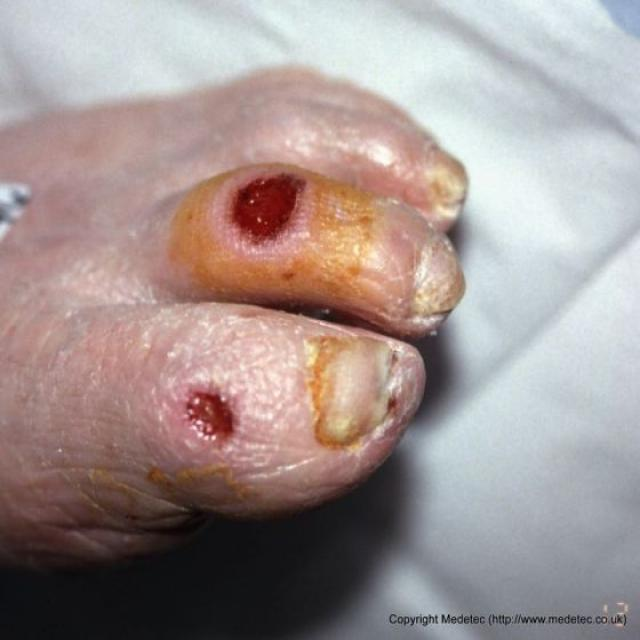wound: (113, 161, 466, 468)
